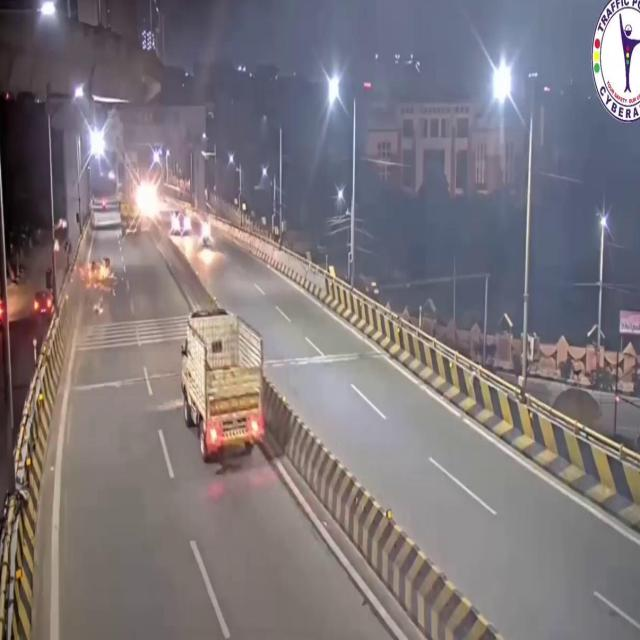accident: (73, 255, 119, 318)
